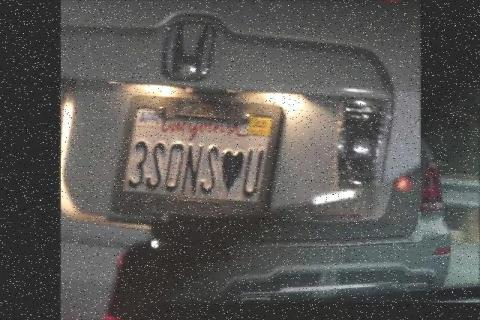LicensePlate: (113, 97, 273, 219)
